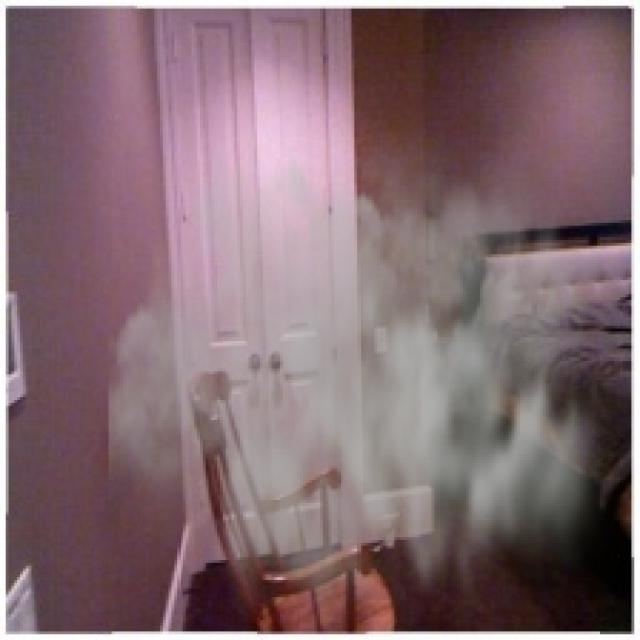smoke: (109, 97, 634, 634)
